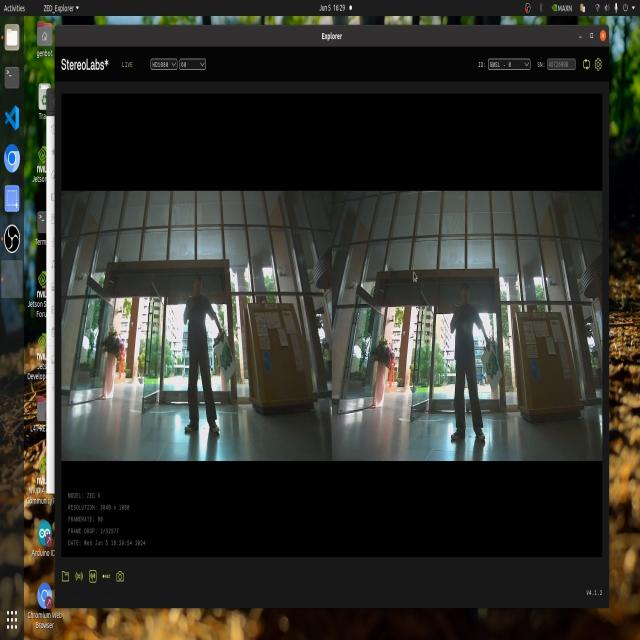green: (486, 350, 504, 389), (218, 339, 234, 370)
